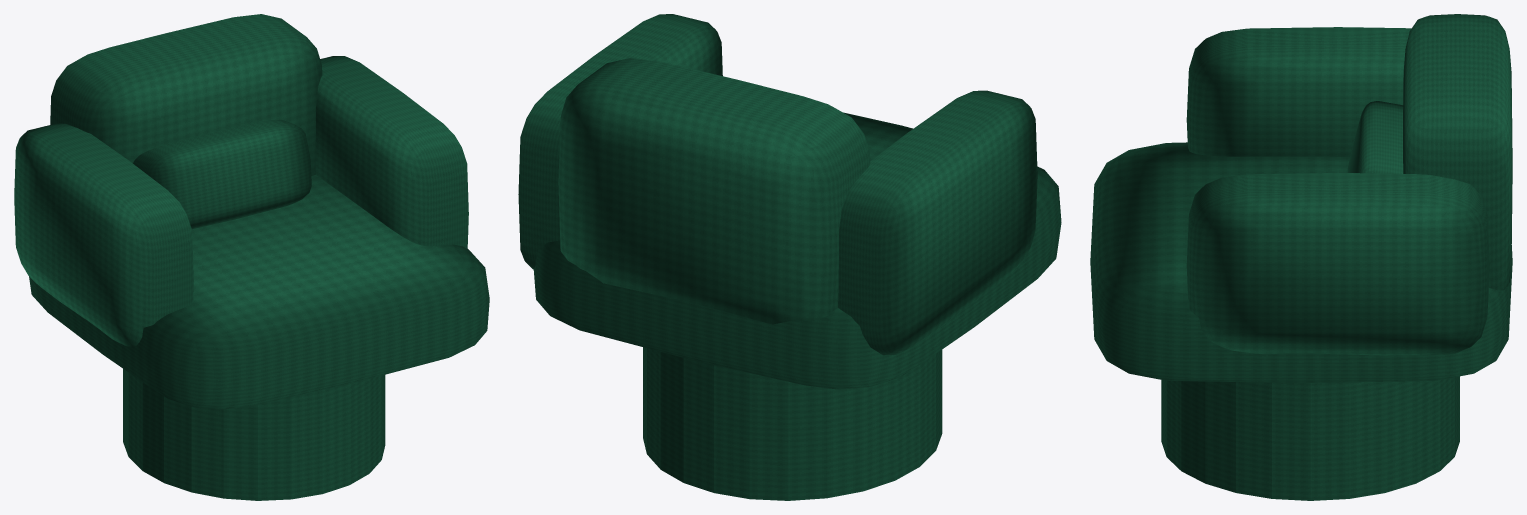
3 views of the same model, side by side, from view 1: azimuth 30°, elevation 25°; view 2: azimuth 150°, elevation 25°; view 3: azimuth 270°, elevation 25° (orthographic). The views are drawn at different scales.
Parts seen in each view (by area): view 1: 2 seat, 4 left_armrest, 3 backrest, 1 swivel_base, 5 right_armrest, 6 lumbar_pillow; view 2: 3 backrest, 4 left_armrest, 1 swivel_base, 2 seat, 5 right_armrest; view 3: 5 right_armrest, 2 seat, 1 swivel_base, 4 left_armrest, 3 backrest, 6 lumbar_pillow.
Boxes of the visible parts, left/top/right/bottom form: 2 seat: left=29, top=174, right=489, bottom=409; 4 left_armrest: left=14, top=123, right=193, bottom=346; 3 backrest: left=50, top=14, right=322, bottom=175; 1 swivel_base: left=123, top=369, right=385, bottom=500; 5 right_armrest: left=315, top=56, right=468, bottom=248; 6 lumbar_pillow: left=133, top=120, right=311, bottom=229; 3 backrest: left=558, top=58, right=870, bottom=324; 4 left_armrest: left=838, top=90, right=1037, bottom=355; 1 swivel_base: left=643, top=347, right=942, bottom=500; 2 seat: left=533, top=112, right=1061, bottom=389; 5 right_armrest: left=518, top=14, right=722, bottom=269; 5 right_armrest: left=1186, top=172, right=1489, bottom=355; 2 seat: left=1090, top=142, right=1512, bottom=382; 1 swivel_base: left=1161, top=376, right=1459, bottom=500; 4 left_armrest: left=1186, top=27, right=1411, bottom=156; 3 backrest: left=1403, top=14, right=1512, bottom=290; 6 lumbar_pillow: left=1347, top=101, right=1403, bottom=173.
Size of the model in its own units: 0.701 by 0.701 by 0.701.
Materials: 1 (1 with a texture image).
